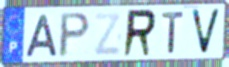A: (23, 13, 60, 58)
P: (57, 11, 92, 60)
R: (121, 8, 159, 59)
T: (161, 10, 186, 54)
V: (189, 8, 223, 56)
Z: (93, 11, 123, 57)
